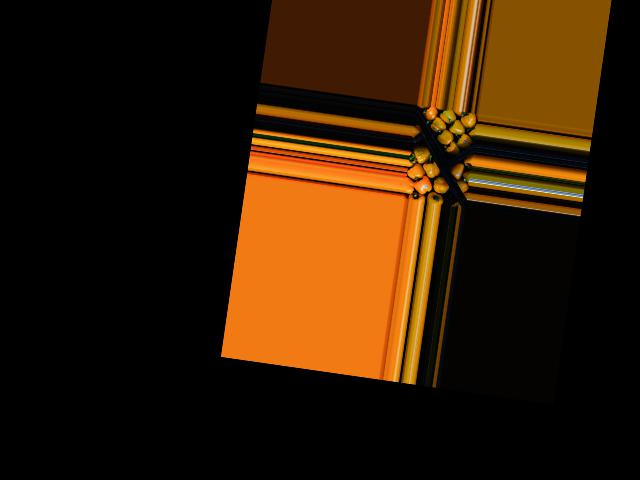bell_pepper: (461, 111, 479, 132)
